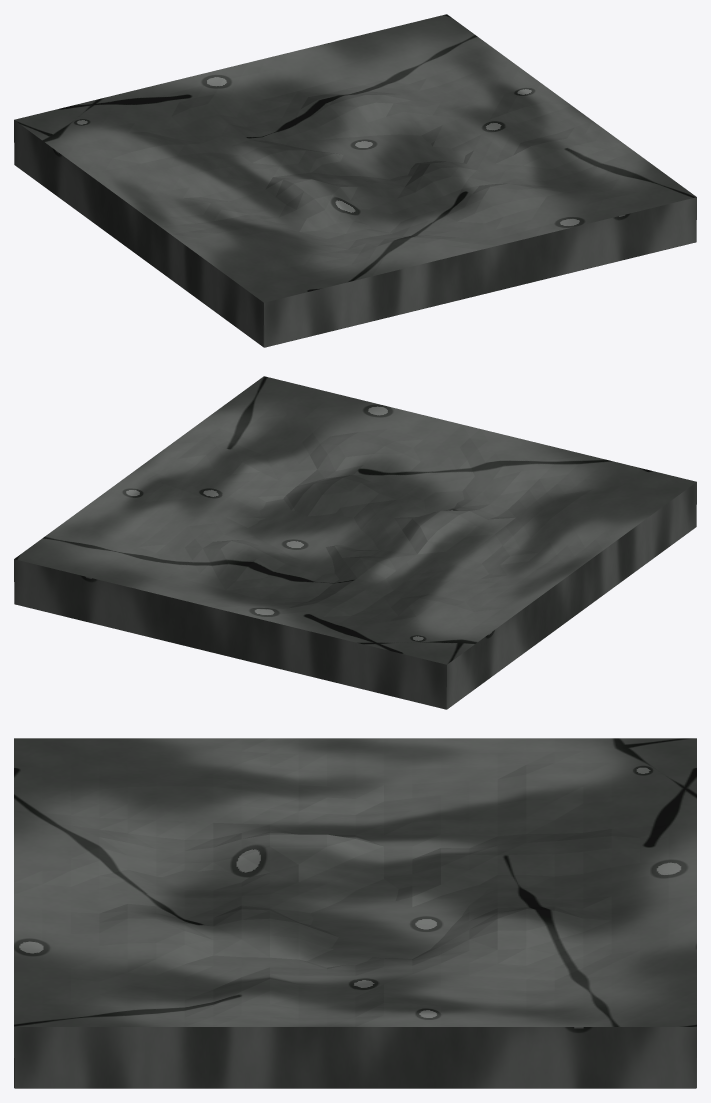
The model's file is floor_cave_b.glb.
3 renders of one model, top to bottom at view 1: azimuth 30°, elevation 25°; view 2: azimuth 150°, elevation 25°; view 3: azimuth 270°, elevation 25°, orthographic. The views are drawn at different scales.
Visible parts, largest first — view 1: floor_cave_b; view 2: floor_cave_b; view 3: floor_cave_b.
Boxes of the visible parts, x1,y1,x2,y2 form: floor_cave_b: (14,14,696,347); floor_cave_b: (14,376,696,709); floor_cave_b: (14,738,696,1088).
Bounding box in the file's own units: 1 × 0.1 × 1.
1 material, 1 textured.
